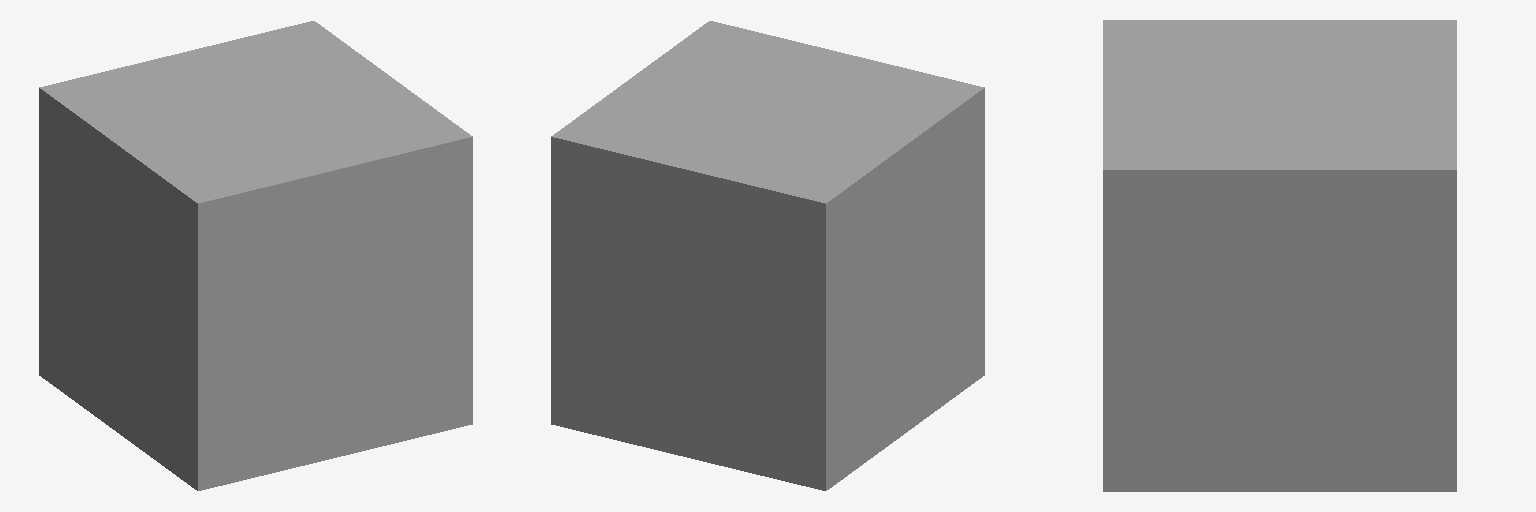
robot.urdf — kuka_iiwa:
<?xml version="1.0" ?>
<!--Autogenerated by "taco/models/sdf2urdf" converter from "../kuka_iiwa/kuka_iiwa.sdf"-->
<robot name="kuka_iiwa">
    <link name="base_link">
        <inertial>
            <origin xyz="0 0 0.14" rpy="0 -0 0" />
            <mass value="4" />
            <inertia ixx="0.4" iyy="0.4" izz="0.4" ixy="0" ixz="0" iyz="0" />
        </inertial>
        <visual>
            <origin xyz="0 0 0" rpy="0 -0 0" />
            <geometry>
                <mesh filename="../../../Model/meshes_iiwa/base.obj" scale="1 1 1" />
            </geometry>
        </visual>
        <!-- <collision>
            <origin xyz="0 0 0" rpy="0 -0 0" />
            <geometry>
                <mesh filename="../../../Model/meshes_iiwa/base.obj" scale="1 1 1" />
            </geometry>
        </collision> -->
    </link>
    <link name="link0">
        <inertial>
            <origin xyz="0 0 0.14" rpy="0 -0 0" />
            <mass value="4" />
            <inertia ixx="0.4" iyy="0.4" izz="0.4" ixy="0" ixz="0" iyz="0" />
        </inertial>
        <visual>
            <origin xyz="0 0 0" rpy="0 -0 0" />
            <geometry>
                <mesh filename="../../../Model/meshes_iiwa/link0.obj" scale="1 1 1" />
            </geometry>
        </visual>
        <!-- <collision>
            <origin xyz="0 0 0" rpy="0 -0 0" />
            <geometry>
                <mesh filename="../../../Model/meshes_iiwa/link0.obj" scale="1 1 1" />
            </geometry>
        </collision> -->
    </link>
    <link name="link1">
        <inertial>
            <origin xyz="0 0 0.14" rpy="0 -0 0" />
            <mass value="4" />
            <inertia ixx="0.4" iyy="0.4" izz="0.4" ixy="0" ixz="0" iyz="0" />
        </inertial>
        <visual>
            <origin xyz="0 0 0" rpy="0 -0 0" />
            <geometry>
                <mesh filename="../../../Model/meshes_iiwa/link1.obj" scale="1 1 1" />
            </geometry>
        </visual>
        <!-- <collision>
            <origin xyz="0 0 0" rpy="0 -0 0" />
            <geometry>
                <mesh filename="../../../Model/meshes_iiwa/link1.obj" scale="1 1 1" />
            </geometry>
        </collision> -->
    </link>
    <link name="link2">
        <inertial>
            <origin xyz="0 0 0.14" rpy="0 -0 0" />
            <mass value="4" />
            <inertia ixx="0.4" iyy="0.4" izz="0.4" ixy="0" ixz="0" iyz="0" />
        </inertial>
        <visual>
            <origin xyz="0 0 0" rpy="0 -0 0" />
            <geometry>
                <mesh filename="../../../Model/meshes_iiwa/link2.obj" scale="1 1 1" />
            </geometry>
        </visual>
        <!-- <collision>
            <origin xyz="0 0 0" rpy="0 -0 0" />
            <geometry>
                <mesh filename="../../../Model/meshes_iiwa/link2.obj" scale="1 1 1" />
            </geometry>
        </collision> -->
    </link>
    <link name="link3">
        <inertial>
            <origin xyz="0 0 0.14" rpy="0 0 0" />
            <mass value="4" />
            <inertia ixx="0.4" iyy="0.4" izz="0.4" ixy="0" ixz="0" iyz="0" />
        </inertial>
        <visual>
            <origin xyz="0 0 0" rpy="0 0 3.1415926535897" />
            <geometry>
                <mesh filename="../../../Model/meshes_iiwa/link3.obj" scale="1 1 1" />
            </geometry>
        </visual>
        <!-- <collision>
            <origin xyz="0 0 0" rpy="0 -0 0" />
            <geometry>
                <mesh filename="../../../Model/meshes_iiwa/link3.obj" scale="1 1 1" />
            </geometry>
        </collision> -->
    </link>
    <link name="link4">
        <inertial>
            <origin xyz="0 0 0.14" rpy="0 0 0" />
            <mass value="3" />
            <inertia ixx="0.3" iyy="0.3" izz="0.3" ixy="0" ixz="0" iyz="0" />
        </inertial>
        <visual>
            <origin xyz="0 0 0" rpy="0 0 0" />
            <geometry>
                <mesh filename="../../../Model/meshes_iiwa/link4.obj" scale="1 1 1" />
            </geometry>
        </visual>
        <!-- <collision>
            <origin xyz="0 0 0" rpy="0 -0 0" />
            <geometry>
                <mesh filename="../../../Model/meshes_iiwa/link4.obj" scale="1 1 1" />
            </geometry>
        </collision> -->
    </link>
    <link name="link5">
        <inertial>
            <origin xyz="0 0 0.14" rpy="0 0 0" />
            <mass value="2" />
            <inertia ixx="0.2" iyy="0.2" izz="0.2" ixy="0" ixz="0" iyz="0" />
        </inertial>
        <visual>
            <origin xyz="0 -0.06 0" rpy="0 0 0" />
            <geometry>
                <mesh filename="../../../Model/meshes_iiwa/link5.obj" scale="1 1 1" />
            </geometry>
        </visual>
        <!-- <collision>
            <origin xyz="0 -0.06 0" rpy="0 -0 0" />
            <geometry>
                <mesh filename="../../../Model/meshes_iiwa/link5.obj" scale="1 1 1" />
            </geometry>
        </collision> -->
    </link>
    <link name="link6">
        <inertial>
            <origin xyz="0 0 0.03" rpy="0 0 0" />
            <mass value="1" />
            <inertia ixx="0.1" iyy="0.1" izz="0.1" ixy="0" ixz="0" iyz="0" />
        </inertial>
        <visual>
            <origin xyz="0 0 0" rpy="0 0 0" />
            <geometry>
                <mesh filename="../../../Model/meshes_iiwa/link6.obj" scale="1 1 1" />
            </geometry>
        </visual>
        <!-- <visual>
            <origin xyz="0 0 0.04" rpy="0 0 0"/>
            <geometry>
                <sphere radius="0.03" />
            </geometry>
        </visual> -->
        <!-- <collision>
            <origin xyz="0 0 0.04" rpy="0 0 0"/>
            <geometry>
                <sphere radius="0.03" />
            </geometry>
        </collision> -->
        <visual> 
            <origin xyz="0 0 0.04" rpy="0 0 0" />
            <geometry>
                <box size="0.03 0.03 0.03"/>
            </geometry>
        </visual>
<!--         <collision>
            <origin xyz="0 0 0.04" rpy="0 0 0" />
            <geometry>
                <box size="0.03 0.03 0.03"/>
            </geometry>
        </collision> --> 

<!-- Remove collision when using proxy computation -->






<!--         <collision>
            <origin xyz="0 0 0" rpy="0 0 0" />
            <geometry>
                <mesh filename="../../../Model/meshes_iiwa/link6.obj" scale="1 1 1" />
            </geometry>
        </collision> -->
    </link>
    <joint name="j0" type="revolute">
        <parent link="base_link" />
        <child link="link0" />
        <origin xyz="0.000000 0.000000 0.155767" rpy="0.000000 0.000000 0.000000" />
        <axis xyz="0 0 1" />
        <limit lower="-2.967" upper="2.967" effort="176" velocity="1.7104" />
    </joint>
    <joint name="j1" type="revolute">
        <parent link="link0" />
        <child link="link1" />
        <origin xyz="0.000000 0.000000 0.182500" rpy="0.000000 0.000000 0.000000" />
        <axis xyz="0 1 0" />
        <limit lower="-2.0944" upper="2.0944" effort="176" velocity="1.7104" />
    </joint>
    <joint name="j2" type="revolute">
        <parent link="link1" />
        <child link="link2" />
        <origin xyz="0.000000 0.000000 0.185000" rpy="0.000000 0.000000 0.000000" />
        <axis xyz="0 0 1" />
        <limit lower="-2.967" upper="2.967" effort="110" velocity="1.7453" />
    </joint>
    <joint name="j3" type="revolute">
        <parent link="link2" />
        <child link="link3" />
        <origin xyz="0.000000 0.000000 0.217000" rpy="0.000000 0.000000 3.1415926535897" />
        <axis xyz="0 1 0" />
        <limit lower="-2.0944" upper="2.0944" effort="110" velocity="2.2689" />
    </joint>
    <joint name="j4" type="revolute">
        <parent link="link3" />
        <child link="link4" />
        <origin xyz="0.000000 0.000000 0.186000" rpy="0.000000 0.000000 -3.1415926535897" />
        <axis xyz="0 0 1" />
        <limit lower="-2.967" upper="2.967" effort="110" velocity="2.4434" />
    </joint>
    <joint name="j5" type="revolute">
        <parent link="link4" />
        <child link="link5" />
        <origin xyz="0.000000 0.000000 0.217003" rpy="0.000000 0.000000 0.000000" />
        <axis xyz="0 1 0" />
        <limit lower="-2.0944" upper="2.0944" effort="40" velocity="3.1416" />
    </joint>
    <joint name="j6" type="revolute">
        <parent link="link5" />
        <child link="link6" />
        <origin xyz="0.000000 0.000000 0.081000" rpy="0.000000 0.000000 0.000000" />
        <axis xyz="0 0 1" />
        <limit lower="-3.0543" upper="3.0543" effort="40" velocity="3.1416" />
    </joint>
</robot>

--- What the picture shows (computed from the rendered views, not written in the file) ---
3 views of the same robot in one strip: view 1: azimuth 30°, elevation 25°; view 2: azimuth 150°, elevation 25°; view 3: azimuth 270°, elevation 25° (orthographic).
Model kuka_iiwa with 8 links and 7 joints (7 revolute), rooted at base_link, posed every joint at zero.
Links seen in each view (by area): view 1: link6; view 2: link6; view 3: link6.
Boxes of the visible links, <box> form: link6: <box>39,21,472,490</box>; link6: <box>551,21,984,490</box>; link6: <box>1103,20,1456,491</box>.
Bounding box of the posed robot: 0.03 × 0.03 × 0.03 m (x, y, z).
Geometry: only primitive shapes (box / cylinder / sphere) drawn; not drawn: 8 mesh visuals (reference in a form the renderer does not follow).